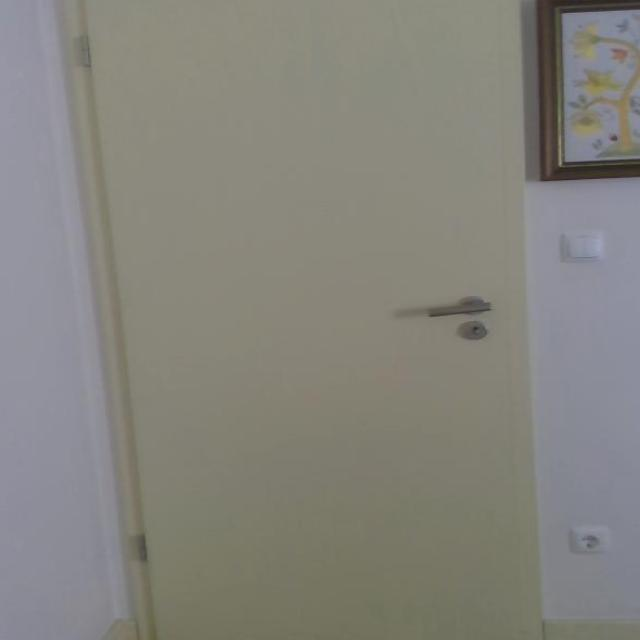door: (73, 0, 546, 639)
